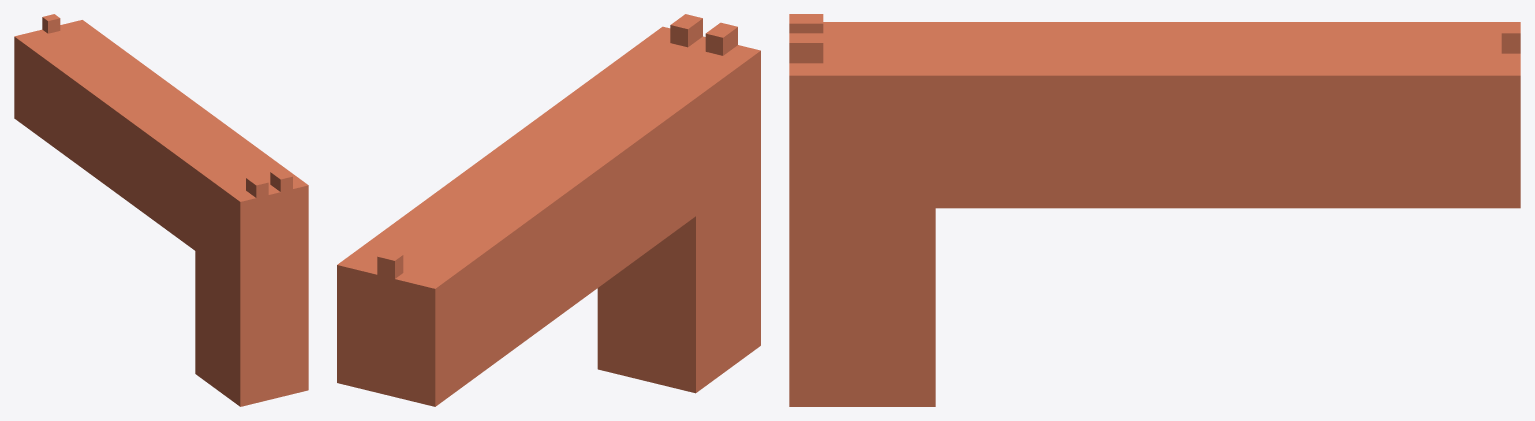
Rendered from gun.glb.
3 renders of one model, left to right at view 1: azimuth 30°, elevation 25°; view 2: azimuth 150°, elevation 25°; view 3: azimuth 270°, elevation 25°, orthographic. The views are drawn at different scales.
Parts seen in each view (by area): view 1: Cube; view 2: Cube; view 3: Cube.
Part boxes in pixels (x1,y1,x2,y2): Cube: [14, 14, 308, 406]; Cube: [337, 14, 760, 406]; Cube: [789, 14, 1520, 406].
Bounding box in the file's own units: 0.1197 × 0.3644 × 0.6865.
